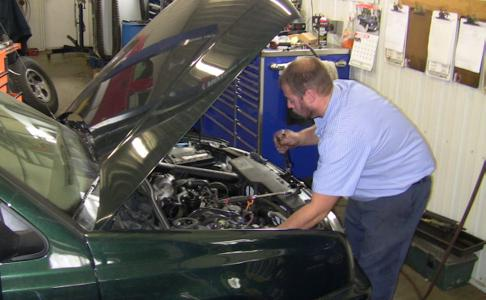person: (272, 56, 439, 300)
